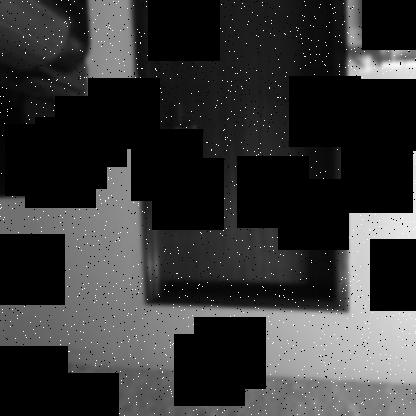Porte: (128, 0, 351, 314)
